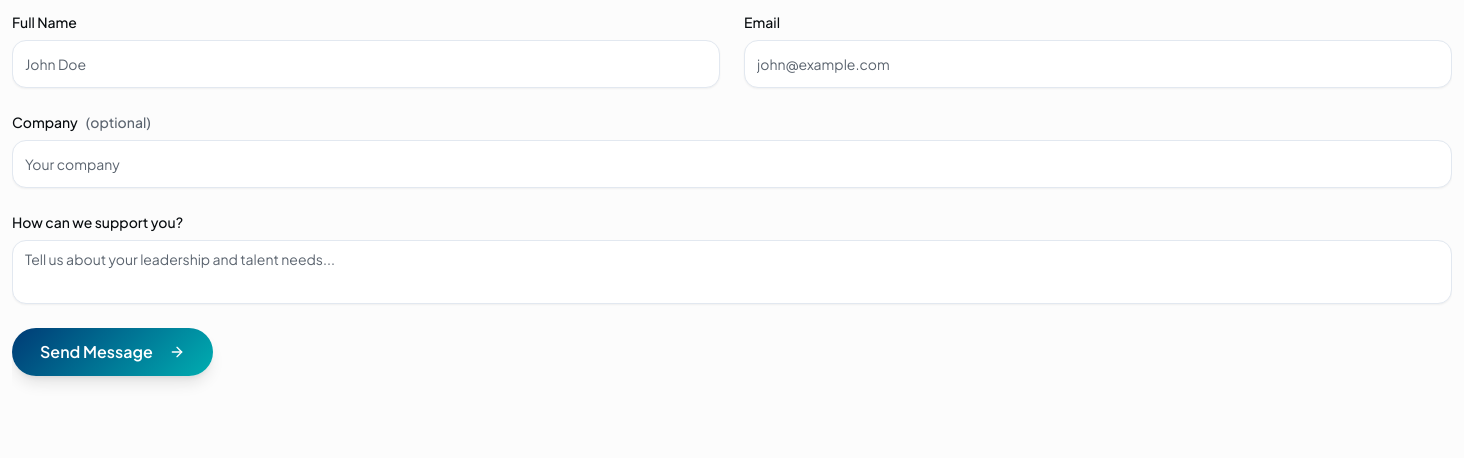
ContactForm › shows validation error for empty name
Click the button "Send Message" at (112, 352), box top-left (12, 328), bottom-right (213, 376)
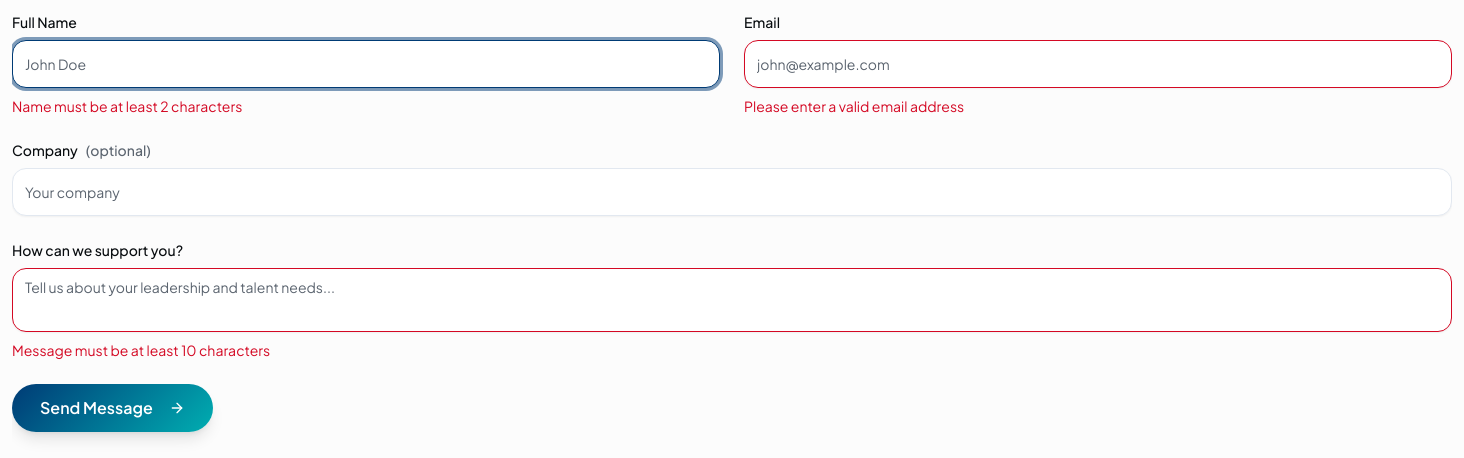
Check: the text "Name must be at least 2 characters" is shown, box top-left (12, 97), bottom-right (242, 115)
